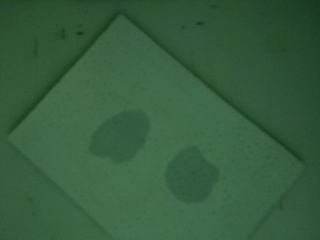Water_detected: (100, 119, 137, 162), (178, 153, 214, 191)
